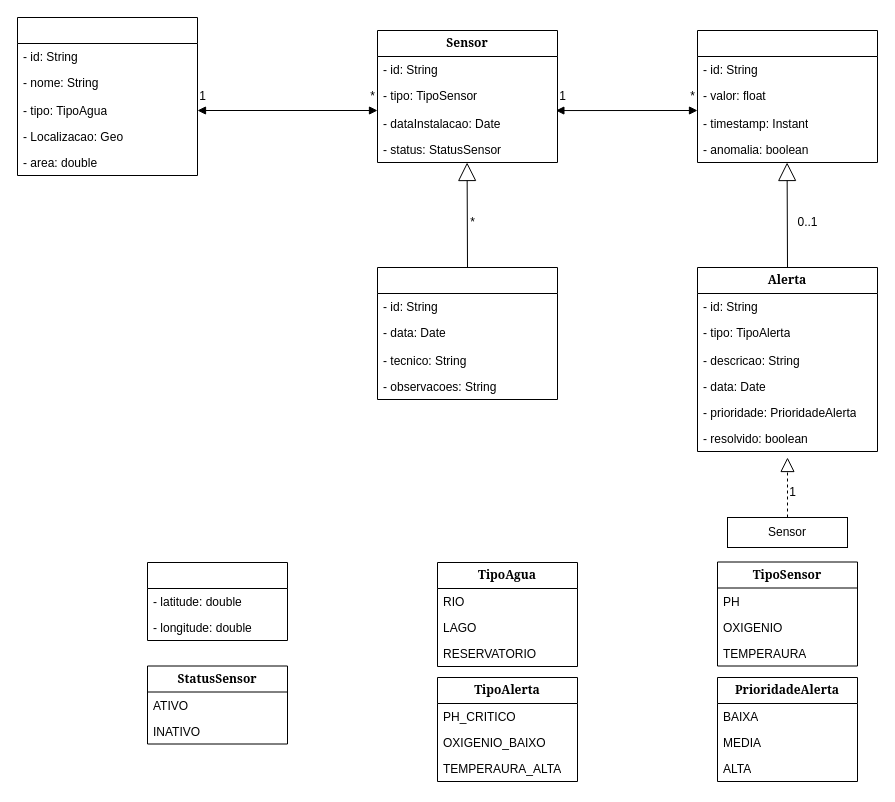
This 895x802 diagram has some shape labels left out. The shapes that lost their labels are listed below. From the top down, each one's box as (x1, y1, x2, y2) in pixels, then its label:
(16, 16, 198, 176): CorpoDagua
(696, 30, 878, 162): Leitura
(376, 266, 558, 400): Calibração
(146, 562, 288, 640): Geo
